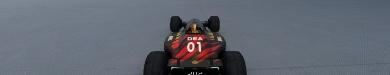Car: (142, 15, 247, 74)
